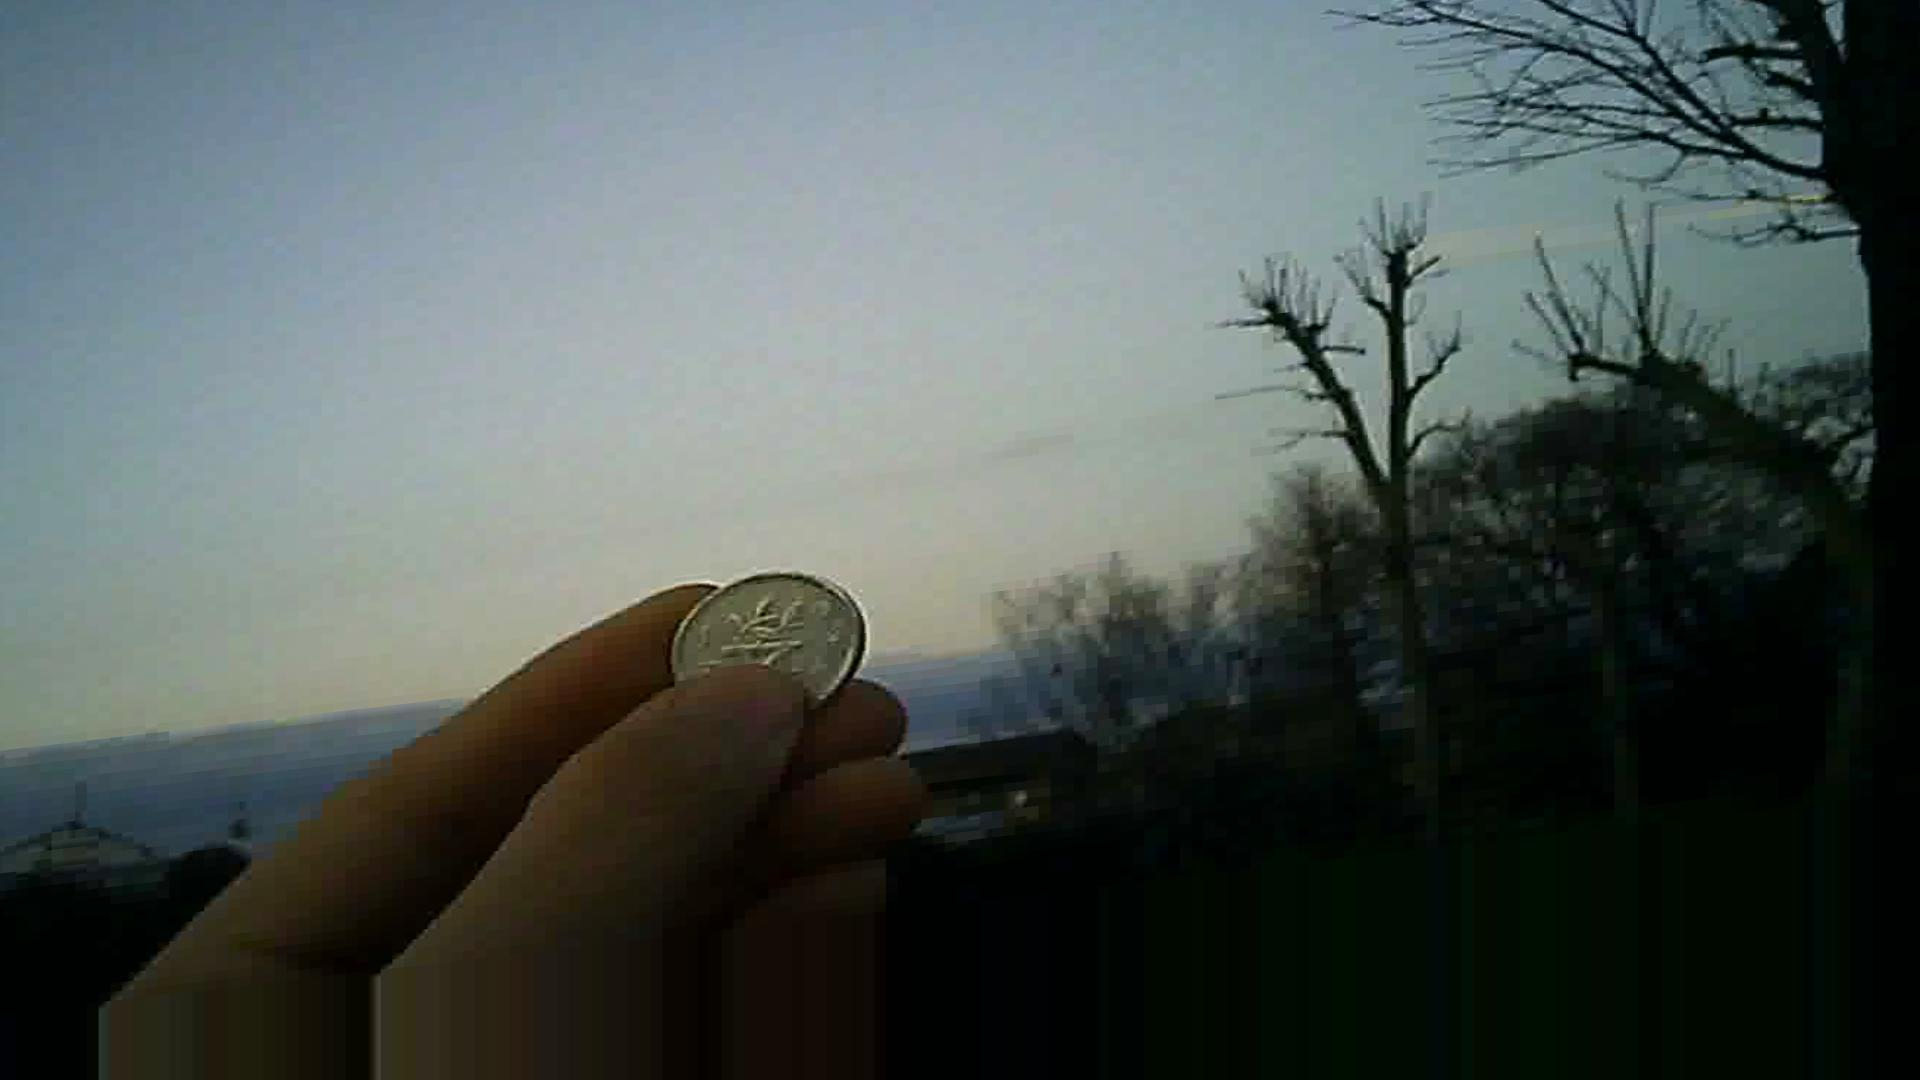1 Yen: (647, 531, 849, 723)
